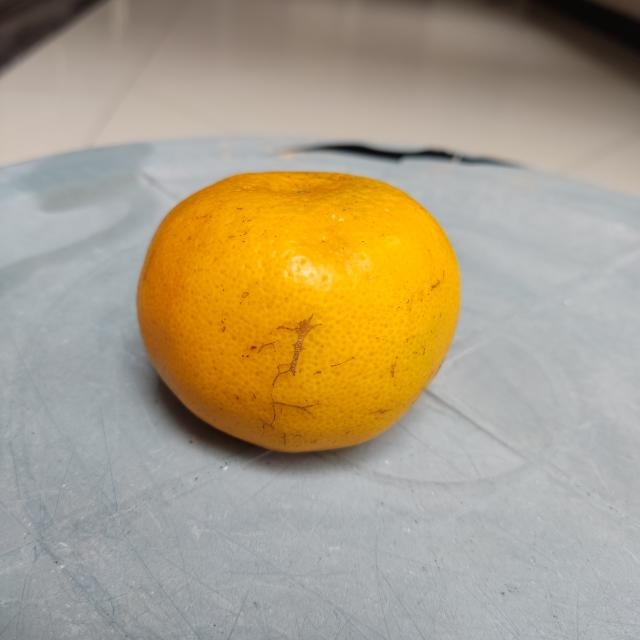agrume: (130, 166, 466, 460)
